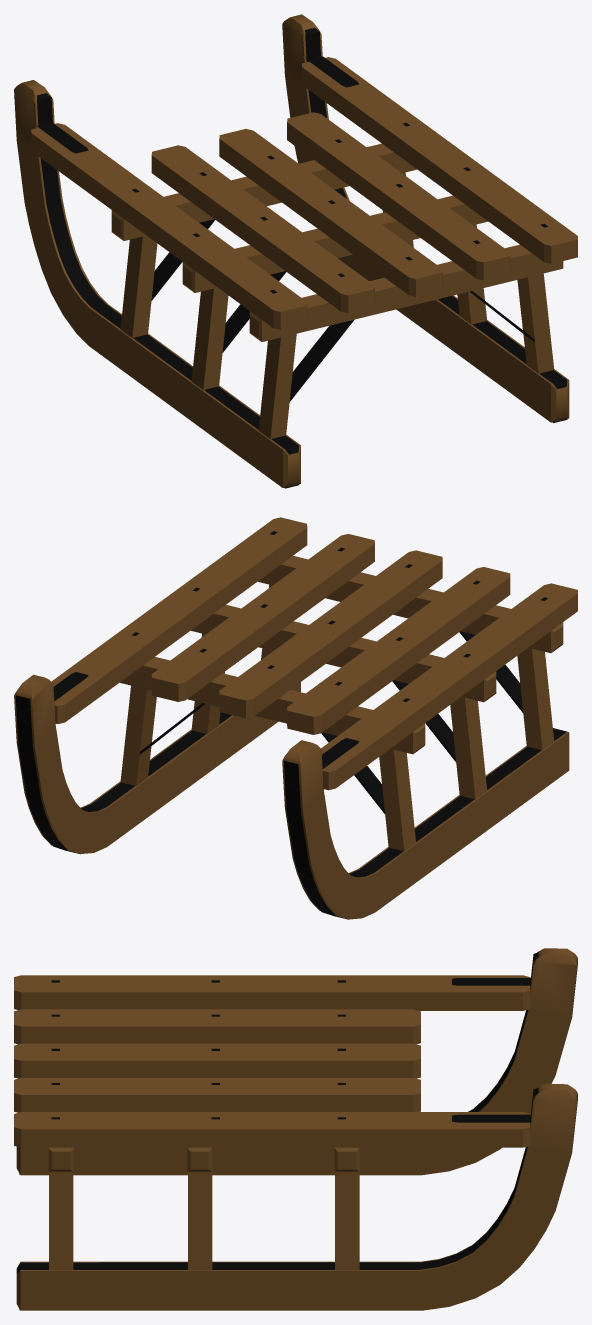
File: toboggan.obj
The picture shows the model from 3 angles, top to bottom: view 1: azimuth 30°, elevation 25°; view 2: azimuth 150°, elevation 25°; view 3: azimuth 270°, elevation 25°; orthographic projection. The views are drawn at different scales.
Visible parts, largest first — view 1: Cube; view 2: Cube; view 3: Cube.
Part boxes in pixels (x1=…): Cube: x1=14, y1=14, x2=577, y2=488; Cube: x1=14, y1=517, x2=577, y2=919; Cube: x1=14, y1=948, x2=577, y2=1310.
Size of the model in its own units: 2.61 by 1.74 by 4.04.
